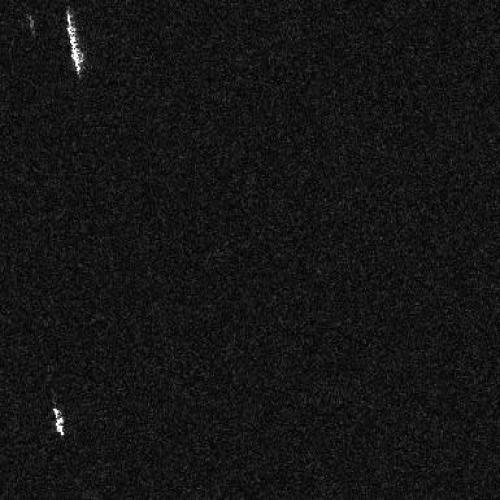ship: (64, 7, 85, 76), (51, 406, 66, 438)
